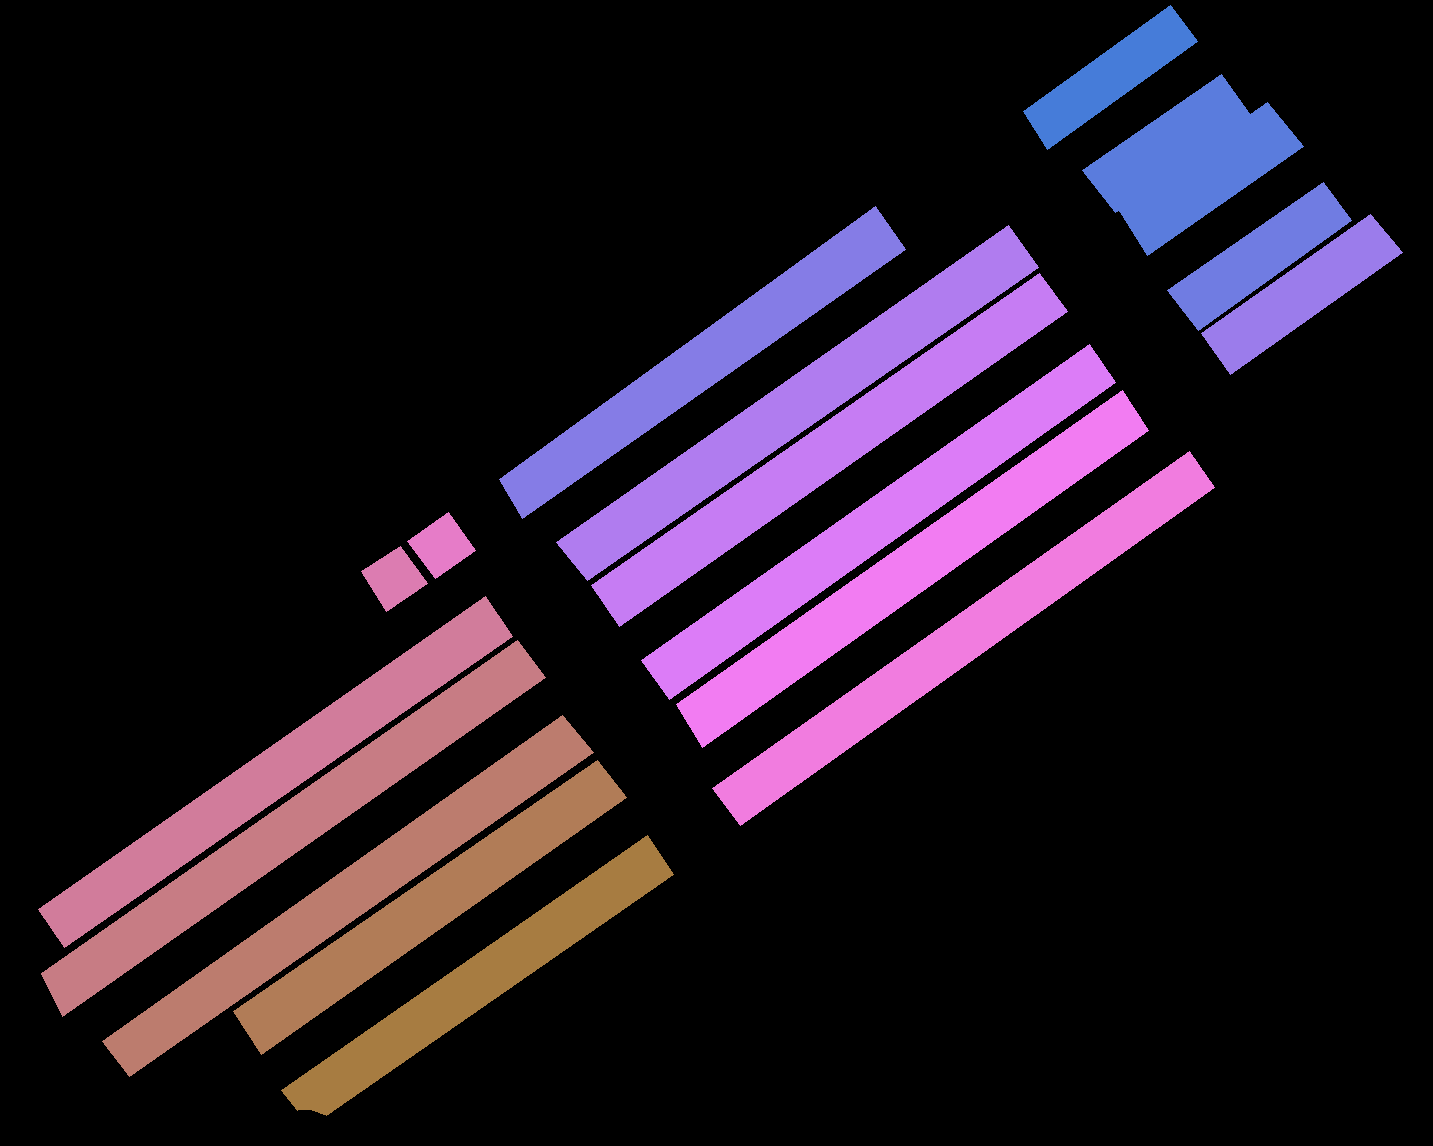parkingspot: (41, 640, 545, 1016), (712, 451, 1214, 824), (102, 714, 593, 1076), (556, 225, 1038, 580), (641, 344, 1115, 699), (676, 391, 1148, 747), (591, 272, 1067, 626), (39, 596, 512, 947), (499, 206, 905, 518), (233, 760, 626, 1054), (281, 835, 673, 1114), (1202, 214, 1401, 374), (1117, 102, 1303, 255), (1167, 182, 1351, 330), (1023, 5, 1197, 149), (1082, 74, 1251, 212), (407, 512, 475, 578), (361, 546, 427, 610)
